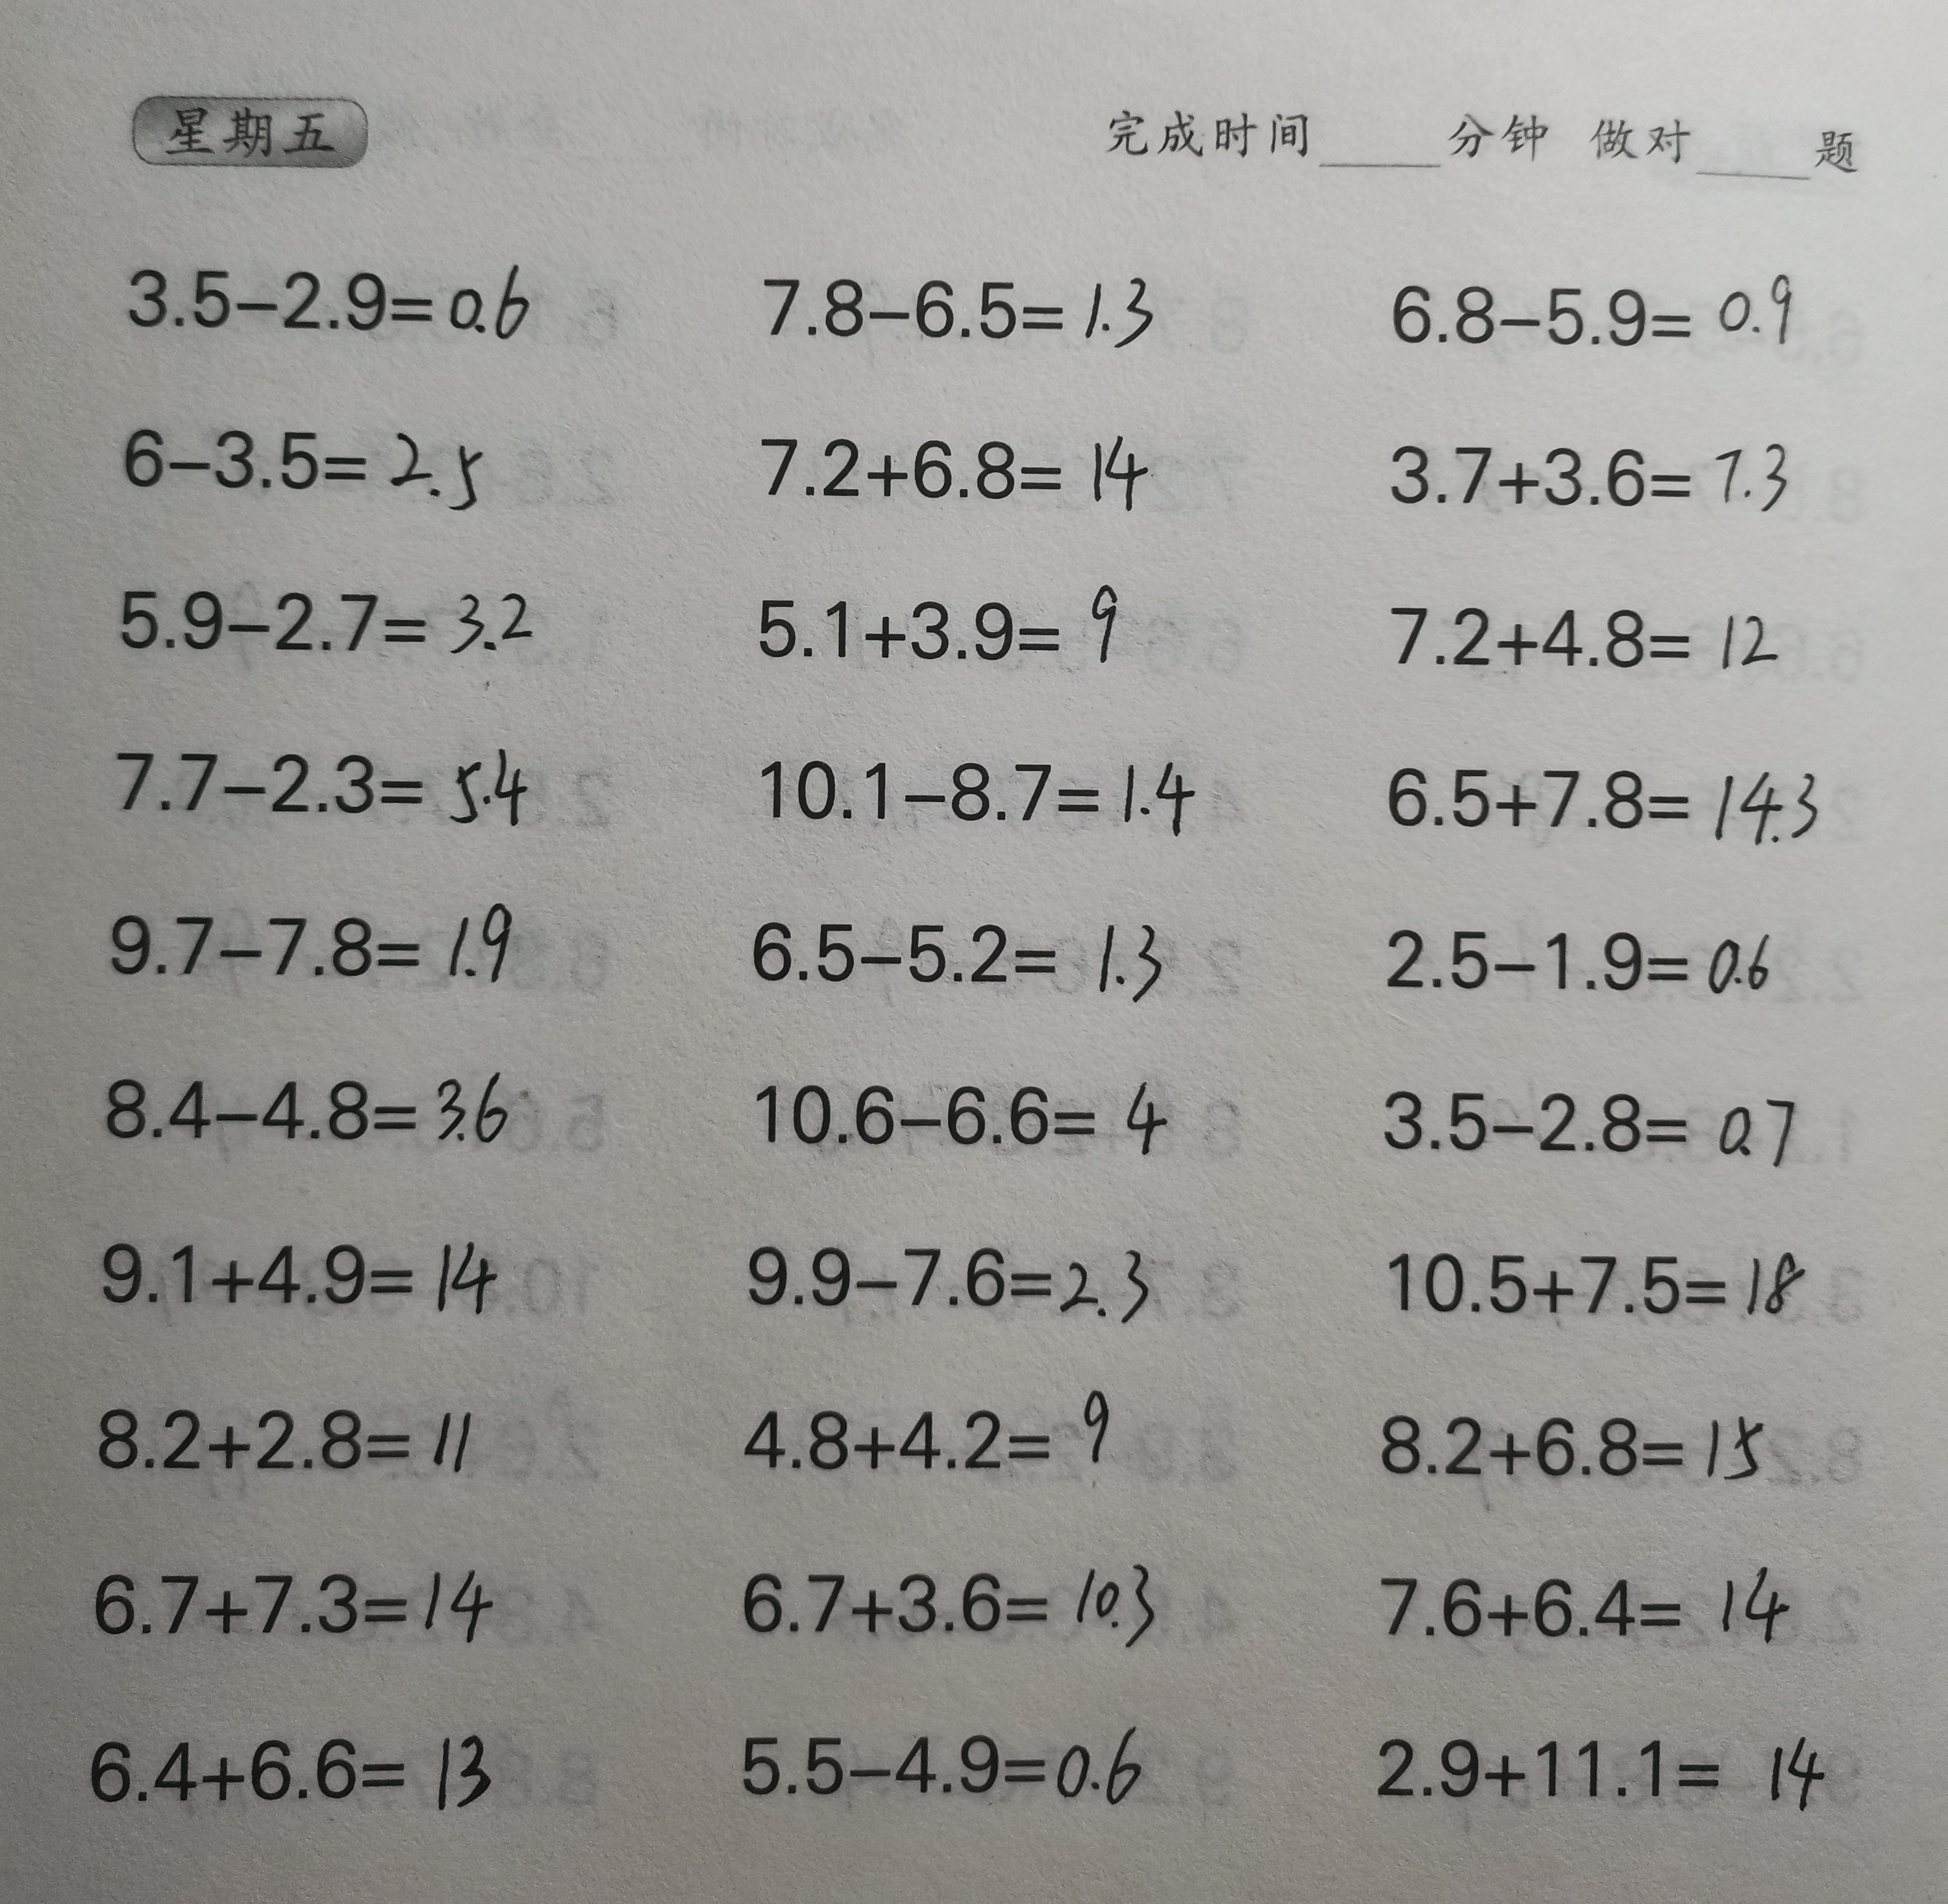equation: (743, 1196, 1170, 1351), (101, 713, 553, 849), (1357, 1048, 1817, 1179), (1346, 1709, 1849, 1824), (720, 1529, 1167, 1658), (1376, 239, 1822, 368), (725, 1693, 1161, 1824), (1355, 1381, 1814, 1503), (84, 1044, 532, 1168), (1364, 1540, 1807, 1663), (748, 732, 1231, 846), (115, 225, 544, 352), (78, 1215, 513, 1341), (78, 1709, 509, 1834), (1371, 1217, 1835, 1332), (739, 896, 1189, 1015), (753, 234, 1172, 359), (1381, 734, 1833, 849), (1372, 408, 1796, 530), (1378, 903, 1805, 1023), (106, 549, 553, 664), (78, 1379, 492, 1503), (743, 1053, 1193, 1166), (1372, 568, 1795, 687), (752, 403, 1160, 521), (738, 1377, 1151, 1494), (87, 889, 534, 996), (77, 1547, 504, 1656), (745, 568, 1165, 680), (115, 399, 504, 518)
